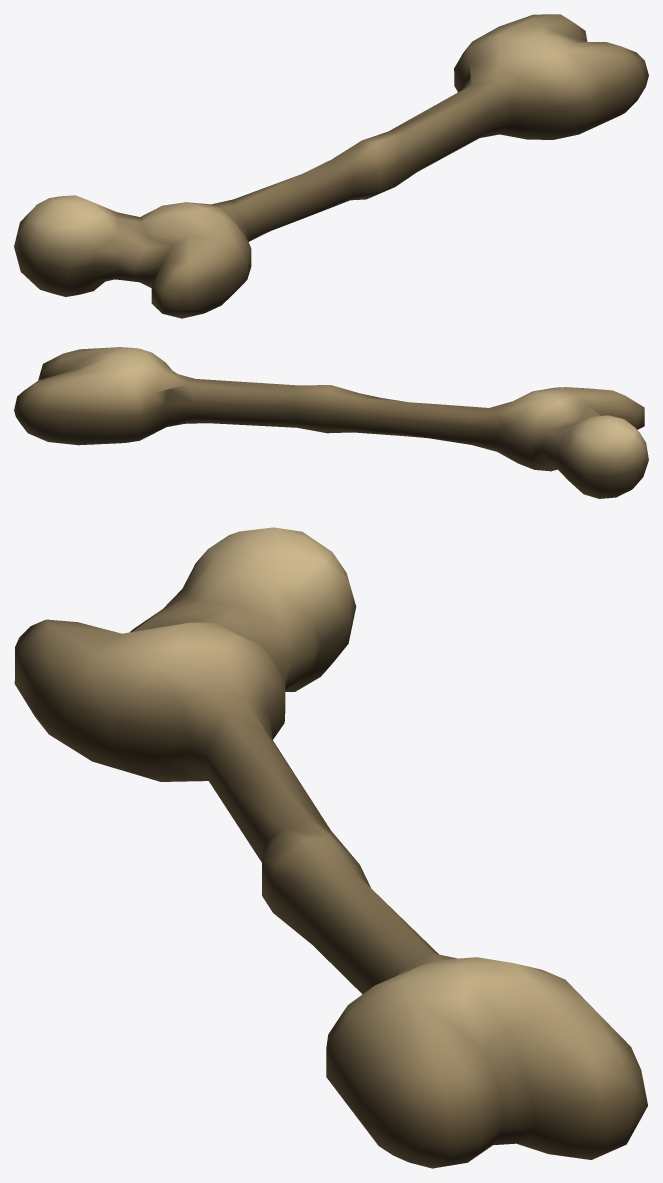
File: bone.glb
The picture shows the model from 3 angles, top to bottom: view 1: azimuth 30°, elevation 25°; view 2: azimuth 150°, elevation 25°; view 3: azimuth 270°, elevation 25°; orthographic projection. The views are drawn at different scales.
Visible parts, largest first — view 1: Bone; view 2: Bone; view 3: Bone.
Part boxes in pixels (x1=…): Bone: x1=14, y1=14, x2=648, y2=318; Bone: x1=14, y1=347, x2=648, y2=498; Bone: x1=14, y1=527, x2=647, y2=1168.
Size of the model in its own units: 0.2917 by 0.042 by 0.1435.
